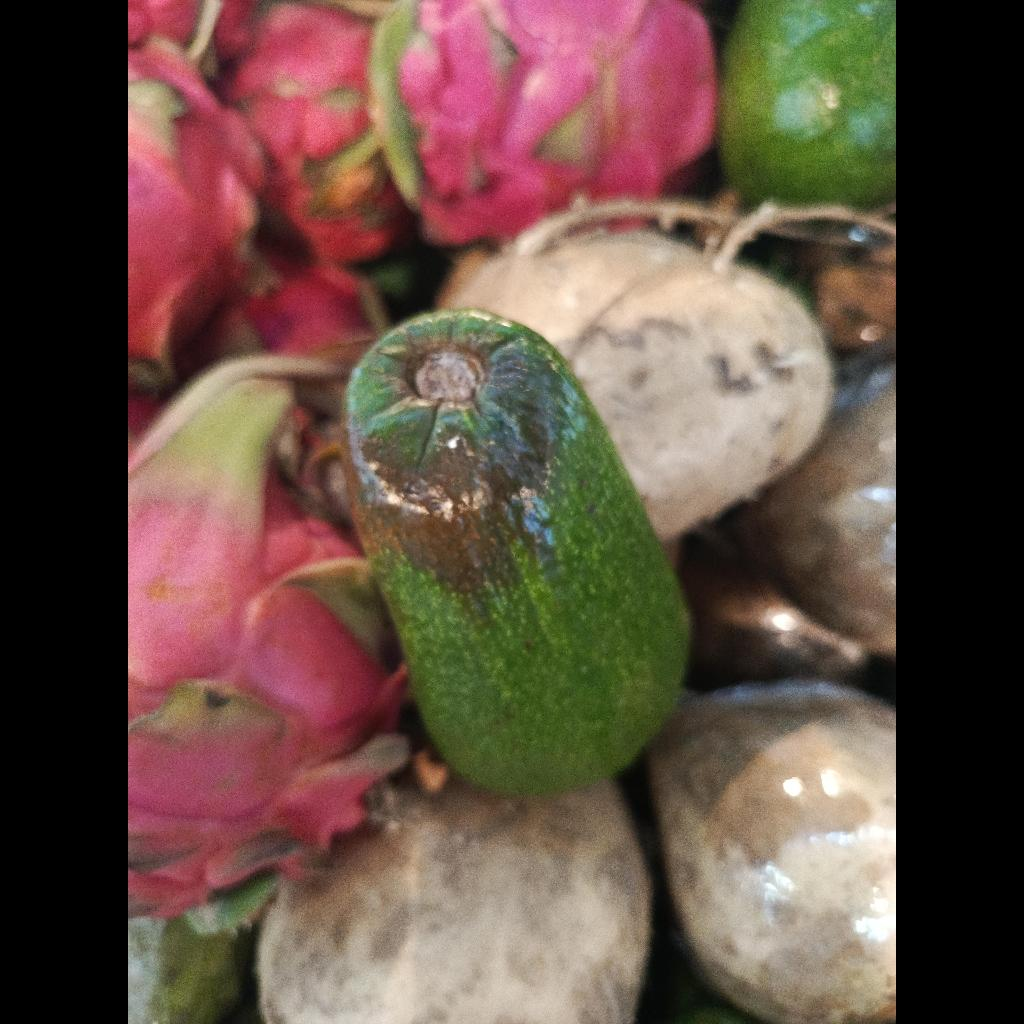stem end rot: (345, 311, 687, 795)
